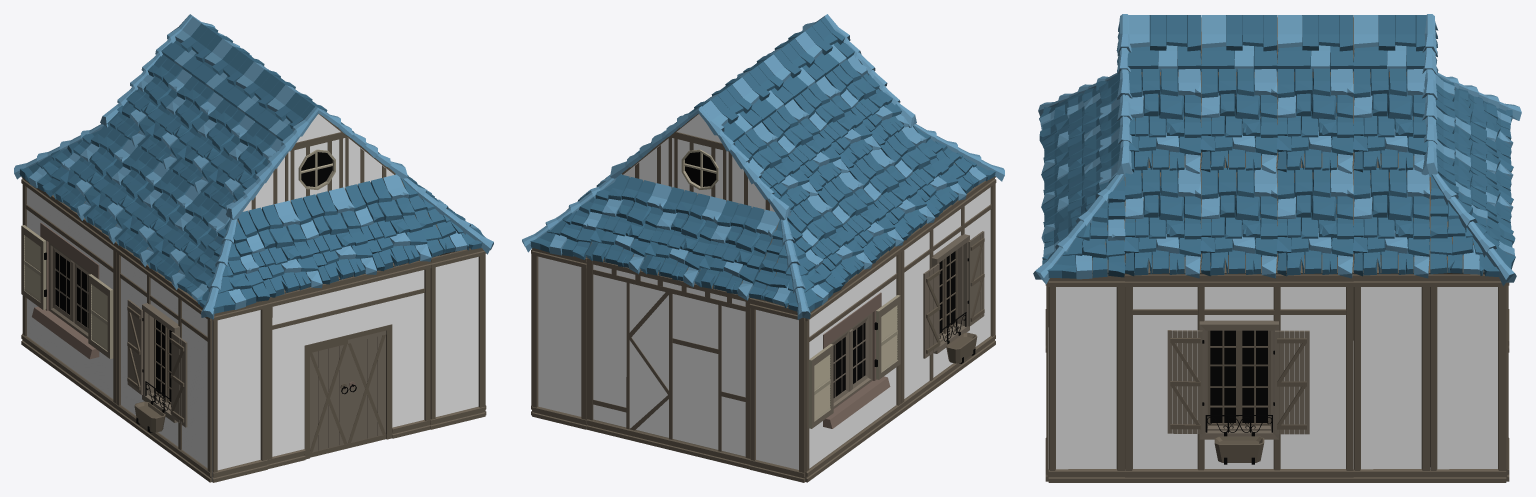
File: house_07_full.fbx
The picture shows the model from 3 angles, left to right: view 1: azimuth 30°, elevation 25°; view 2: azimuth 150°, elevation 25°; view 3: azimuth 270°, elevation 25°; orthographic projection. The views are drawn at different scales.
Visible parts, largest first — view 1: DOOR_03_2, WINDOW_05_3, WINDOW_06_2, WALL_03_3, WALL_03_4, ROOF_base_12, ROOF_base_24, ROOF_base_21, ROOF_corner_out_5, ROOF_base_14, ROOF_base_18, ROOF_base_17 (+18 smaller); view 2: WALL_05_2, WINDOW_06_2, WINDOW_05_3, WALL_03_9, WALL_03_8, ROOF_base_22, ROOF_base_23, ROOF_base_11, ROOF_corner_out_4, ROOF_base_18, ROOF_base_17, ROOF_base_14 (+18 smaller); view 3: WINDOW_05_2, WALL_03_6, WALL_03_7, WALL_03_5, ROOF_base_6, ROOF_base_8, ROOF_base_3, ROOF_base_10, ROOF_base_5, ROOF_base_7, ROOF_base_4, ROOF_base_9 (+18 smaller).
Boxes of the visible parts, box(x1,y1,x2,y2) form: DOOR_03_2: box(267, 260, 430, 468); WINDOW_05_3: box(115, 242, 212, 482); WINDOW_06_2: box(21, 176, 116, 413); WALL_03_3: box(430, 248, 485, 429); WALL_03_4: box(212, 300, 267, 482); ROOF_base_12: box(345, 174, 431, 271); ROOF_base_24: box(290, 187, 376, 284); ROOF_base_21: box(237, 200, 322, 297); ROOF_corner_out_5: box(177, 218, 269, 319); ROOF_base_14: box(146, 192, 230, 289); ROOF_base_18: box(83, 146, 169, 243); ROOF_base_17: box(114, 169, 200, 266); WALL_05_2: box(586, 258, 750, 469); WINDOW_06_2: box(805, 245, 901, 482); WINDOW_05_3: box(900, 176, 996, 413); WALL_03_9: box(749, 298, 805, 482); WALL_03_8: box(532, 248, 587, 429); ROOF_base_22: box(694, 200, 779, 300); ROOF_base_23: box(640, 187, 725, 287); ROOF_base_11: box(585, 174, 671, 274); ROOF_corner_out_4: box(749, 218, 842, 319); ROOF_base_18: box(817, 172, 903, 263); ROOF_base_17: box(848, 149, 935, 240); ROOF_base_14: box(880, 126, 966, 217); WINDOW_05_2: box(1125, 274, 1353, 482); WALL_03_6: box(1353, 274, 1429, 482); WALL_03_7: box(1430, 274, 1506, 482); WALL_03_5: box(1048, 274, 1124, 482); ROOF_base_6: box(1276, 167, 1353, 278); ROOF_base_8: box(1200, 167, 1277, 278); ROOF_base_3: box(1353, 167, 1430, 278); ROOF_base_10: box(1124, 167, 1201, 278); ROOF_base_5: box(1276, 67, 1353, 173); ROOF_base_7: box(1200, 68, 1277, 173); ROOF_base_4: box(1353, 68, 1429, 172); ROOF_base_9: box(1125, 68, 1201, 173).
Size of the model in its own units: 582 by 560 by 641.
